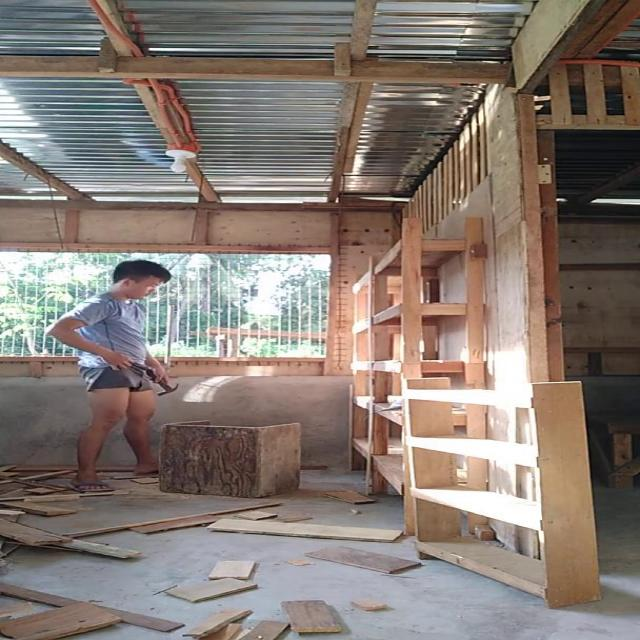hammer: (142, 368, 182, 397)
